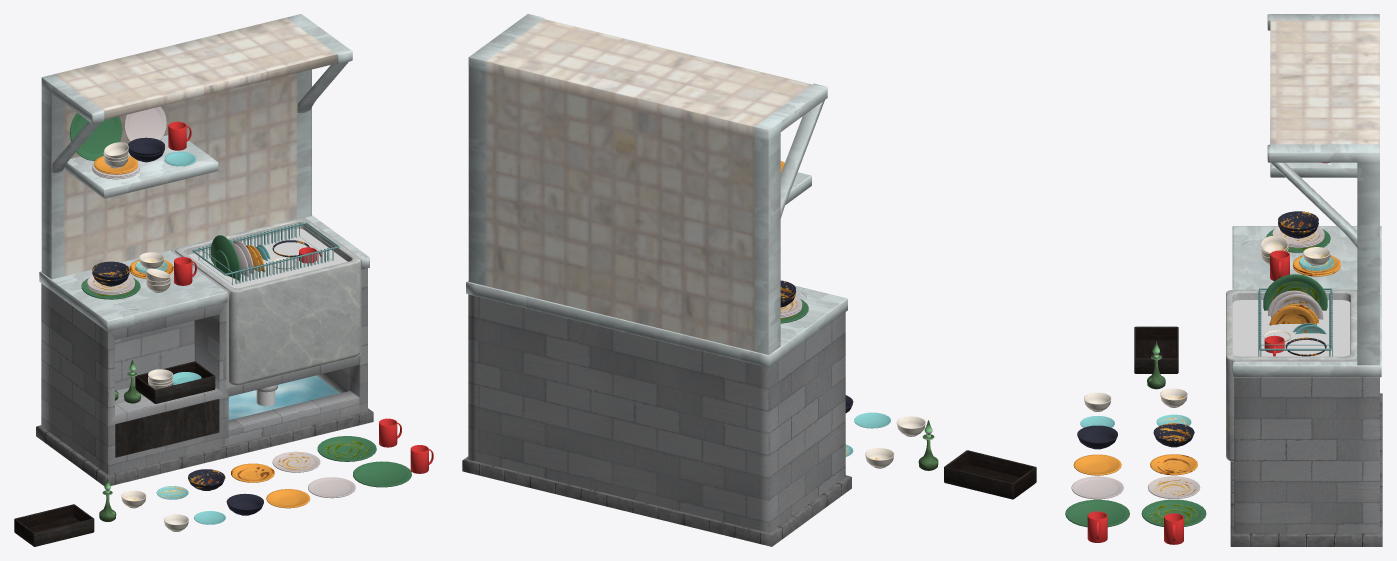
Rendered from Arcane Dish Purifier.fbx.
3 views of the same model, side by side, from view 1: azimuth 30°, elevation 25°; view 2: azimuth 150°, elevation 25°; view 3: azimuth 270°, elevation 25° (orthographic). The views are drawn at different scales.
Visible parts, largest first — view 1: Arcane Dish Purifier, Shelfware, Arcane Dish Purifier_Soiled Dish, Mystic Surface, Arcane Dish Purifier_Basketware, Dish Basket, Basketware, Fine Dish_06, Soiled Dish_06, Arcane Dish Purifier_Soiled Dish_06, Soiled Dish_05, Fine Dish_05 (+6 smaller); view 2: Arcane Dish Purifier, Dish Basket, Arcane Dish Purifier_Soiled Dish; view 3: Arcane Dish Purifier, Mystic Surface, Arcane Dish Purifier_Soiled Dish, Dish Basket, Soiled Dish_06, Arcane Dish Purifier_Soiled Dish_06, Fine Dish_06, Fine Dish_05, Soiled Dish_05, Basketware, Soiled Dish_04, Fine Dish_04 (+9 smaller).
Part boxes in pixels (x1,y1,x2,y2): Arcane Dish Purifier: (36,14,373,485); Shelfware: (70,106,196,179); Arcane Dish Purifier_Soiled Dish: (81,252,197,299); Mystic Surface: (188,228,347,288); Arcane Dish Purifier_Basketware: (135,361,215,403); Dish Basket: (14,504,94,546); Basketware: (192,222,339,285); Fine Dish_06: (353,461,411,487); Soiled Dish_06: (317,436,376,461); Arcane Dish Purifier_Soiled Dish_06: (210,235,240,280); Soiled Dish_05: (272,451,320,472); Fine Dish_05: (308,477,355,498); Arcane Dish Purifier: (462,14,851,546); Dish Basket: (944,450,1036,499); Arcane Dish Purifier_Soiled Dish: (780,280,808,323); Arcane Dish Purifier: (1226,14,1382,546); Mystic Surface: (1232,300,1350,356); Arcane Dish Purifier_Soiled Dish: (1261,211,1340,280); Dish Basket: (1134,326,1178,373); Soiled Dish_06: (1141,499,1206,526); Arcane Dish Purifier_Soiled Dish_06: (1263,274,1327,310); Fine Dish_06: (1065,499,1129,527); Fine Dish_05: (1071,476,1123,499); Soiled Dish_05: (1147,476,1200,498); Basketware: (1258,288,1332,356); Soiled Dish_04: (1150,454,1197,475); Fine Dish_04: (1073,454,1121,475).
Size of the model in its own units: 1.9 by 1.69 by 1.24.
